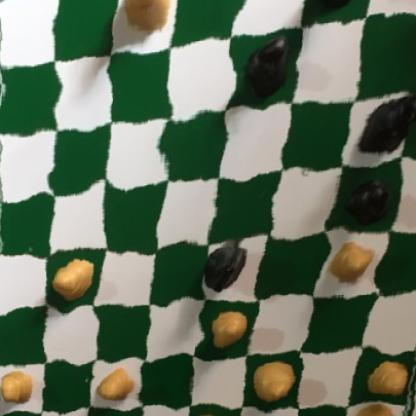black-bishop: (301, 0, 378, 17)
black-king: (350, 92, 416, 160)
black-knight: (196, 230, 256, 295)
black-pawn: (232, 36, 299, 98), (338, 172, 394, 232)
white-king: (180, 410, 236, 416)
white-pawn: (321, 231, 380, 290), (357, 358, 416, 401), (203, 306, 251, 357), (50, 252, 98, 302), (246, 357, 299, 401), (96, 364, 140, 402), (0, 362, 39, 403)
white-rook: (114, 0, 182, 45), (340, 401, 412, 416)
